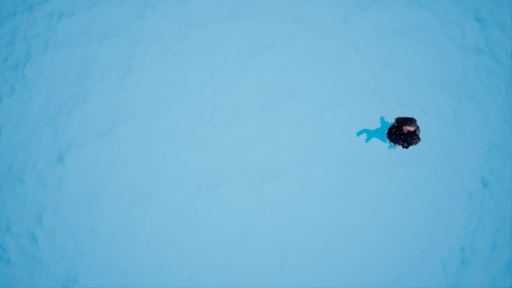person: (350, 114, 420, 151)
